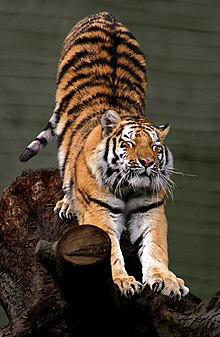Tigre: (41, 11, 192, 301)
